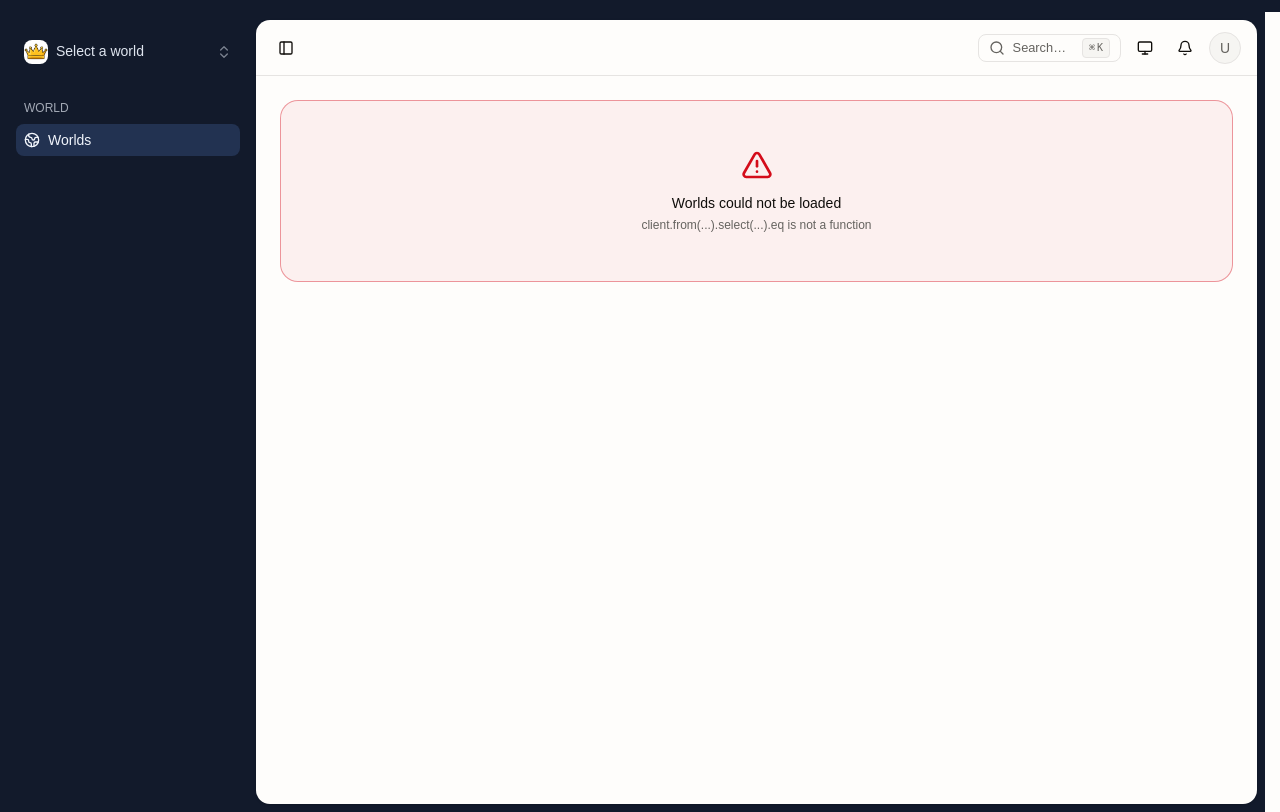
Test: app shell auth controls › shows authenticated users sign-out via the user menu, without sign-in
Click the button named "User menu": x=1225, y=48 1209,32 -> 1241,64
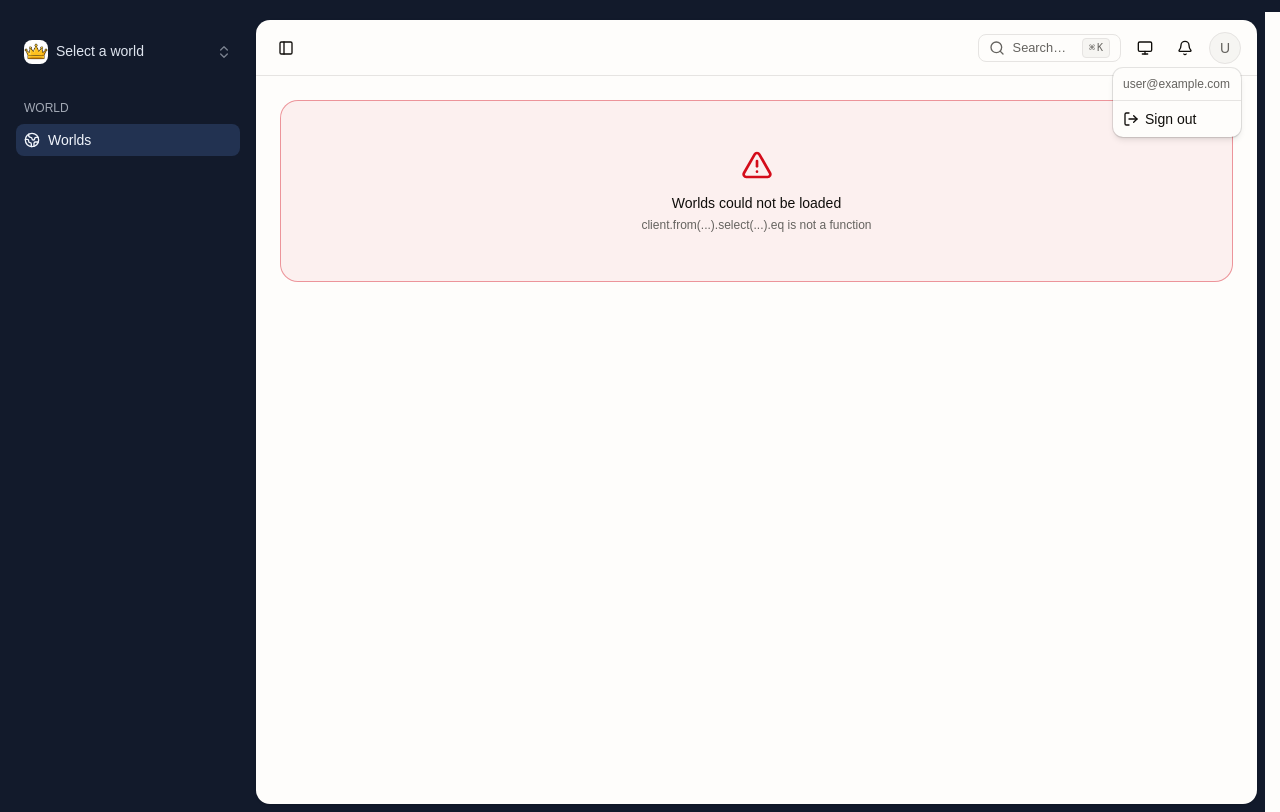
expect the menu item "Sign out" is shown: met, box 1123,111 -> 1196,127
